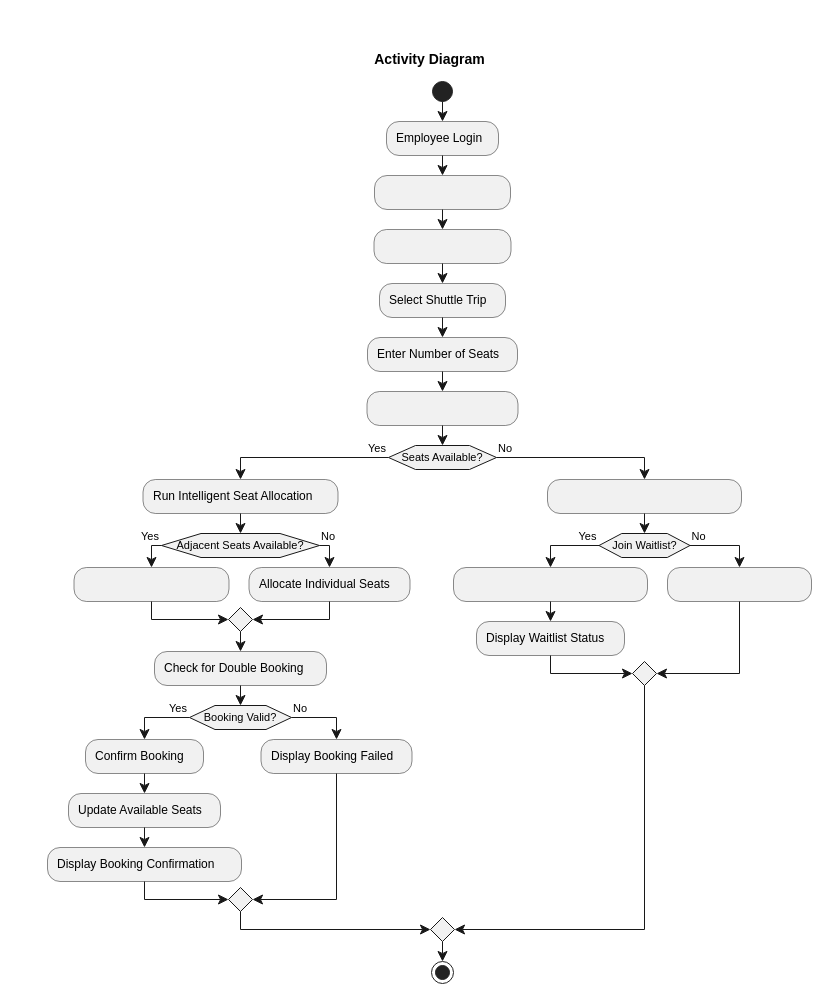
This 829x1001 diagram has some shape labels left out. The centre of each missing label's shape, as x and y in pixels:
Add Employee to FIFO Waitlist: (x=550, y=584)
Allocate Adjacent Seats: (x=151, y=584)
Check Seat Availability: (x=442, y=408)
Display Fully Booked Message: (x=644, y=496)
Return to Trip Search: (x=739, y=584)
Search Shuttle Trips: (x=442, y=192)
View Available Trips: (x=442, y=246)
